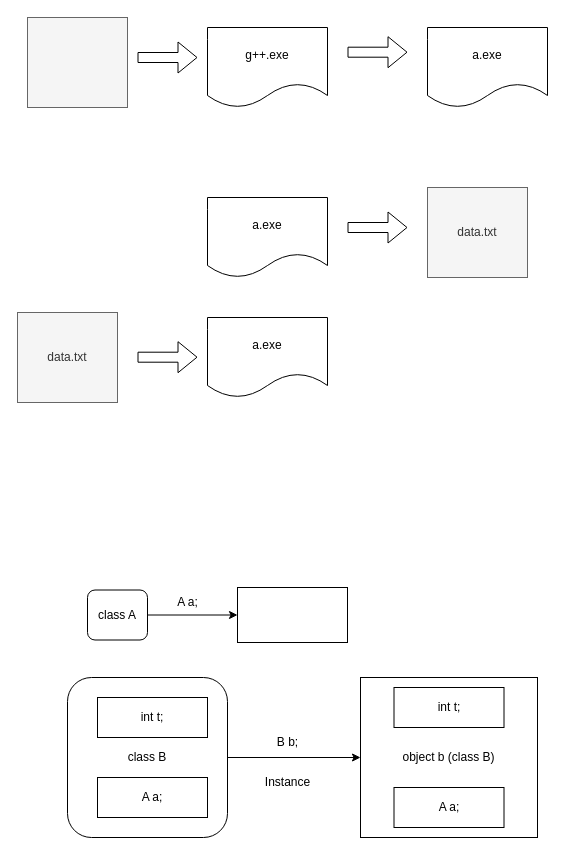
This 565x855 diagram has some shape labels left out. The shapes that lost their labels are listed below. From the top down, each one's centre as x and y in pixels, then its label:
the point at 77,62: main.cpp
the point at 292,614: object a (class A)
